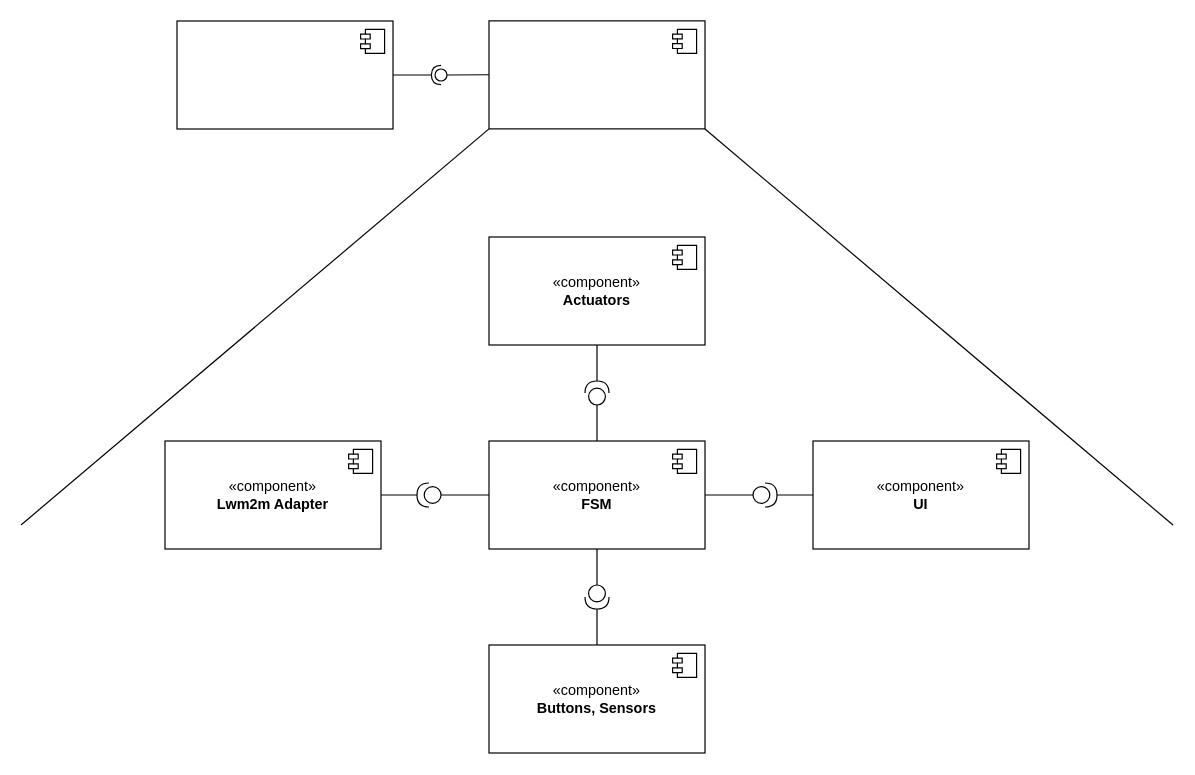
Image size: 1195x775. Some labels were removed from this diagram. The shapes that lost their labels are listed below. From the top down, each one's centre as x and y in pixels, then its label:
At (x=284, y=74): "«component» Backend (Lwm2m)".
At (x=596, y=74): "«component» HiL (Hardware in the Loop)".
